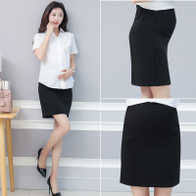F_shirt: (21, 25, 80, 94)
F_tailored skirt: (116, 103, 182, 190), (123, 3, 180, 91), (34, 81, 82, 121)
